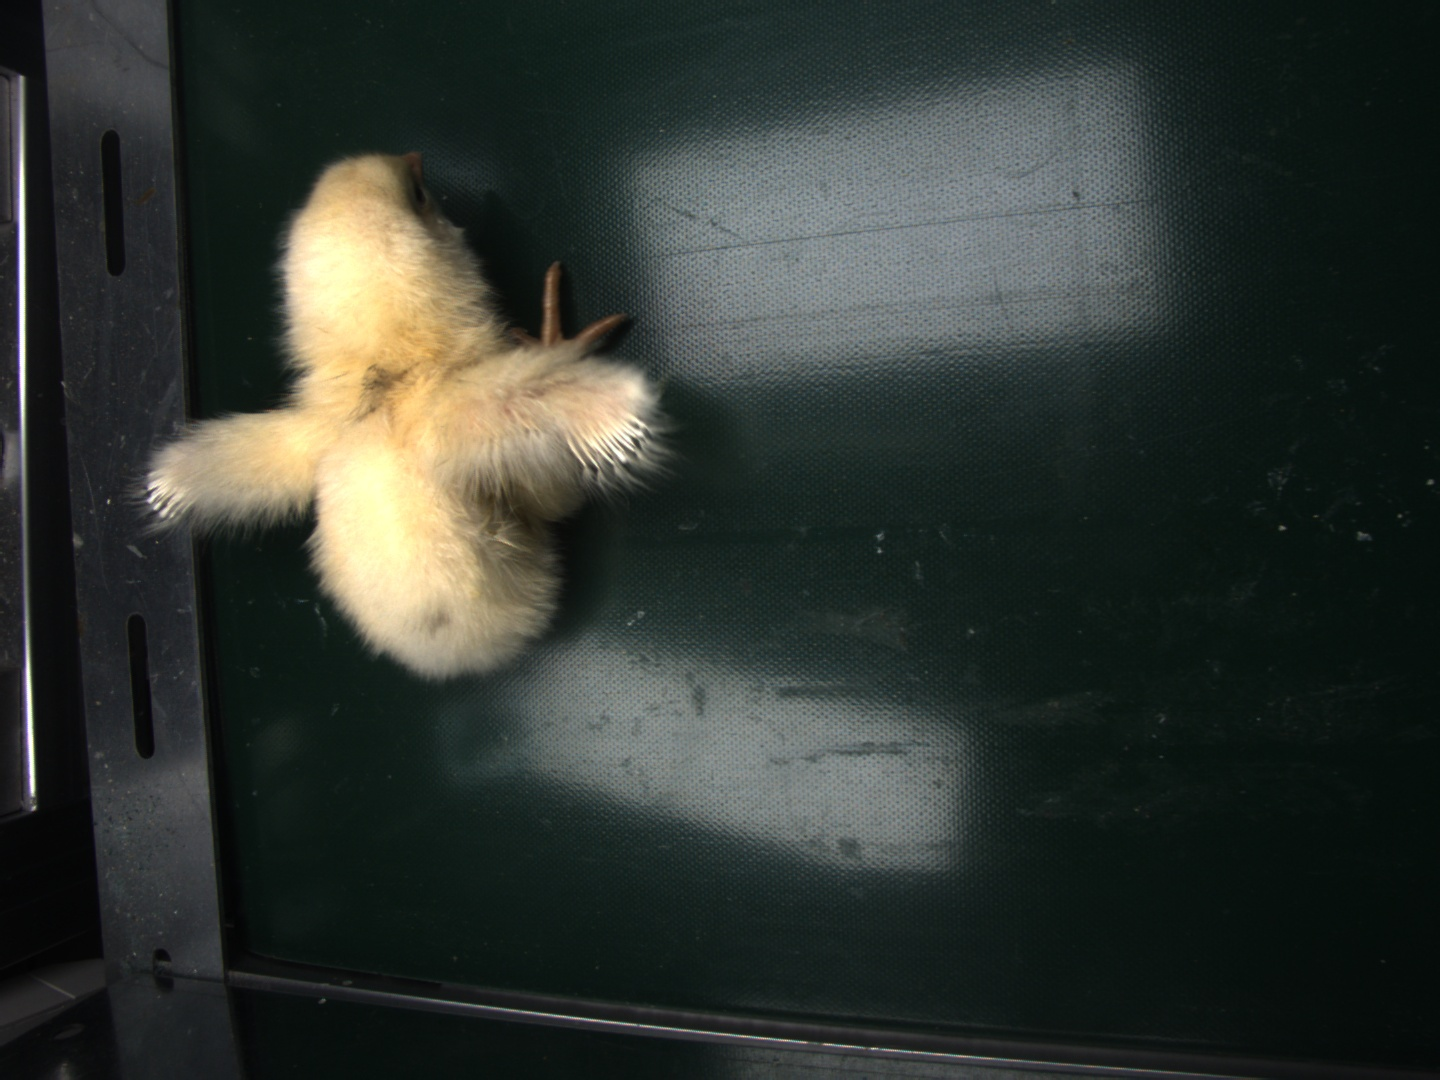male: (571, 412, 650, 470)
